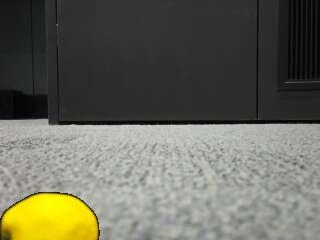lemon: (1, 194, 98, 240)
